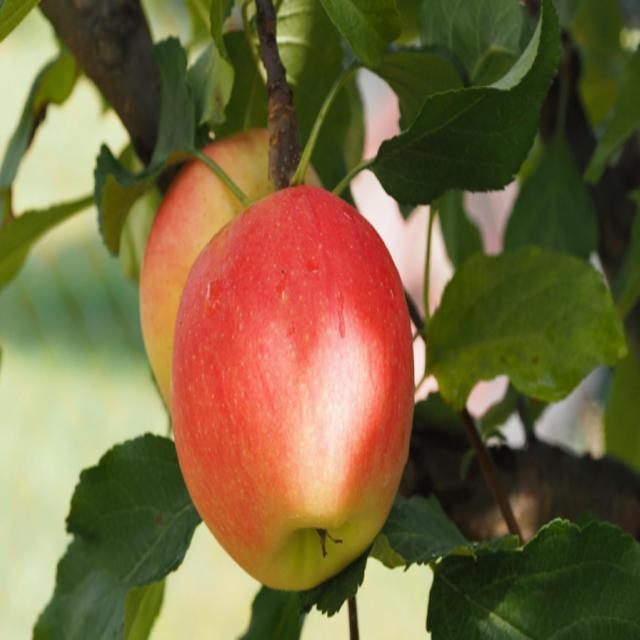Apple: (177, 181, 417, 594), (140, 125, 331, 426)
